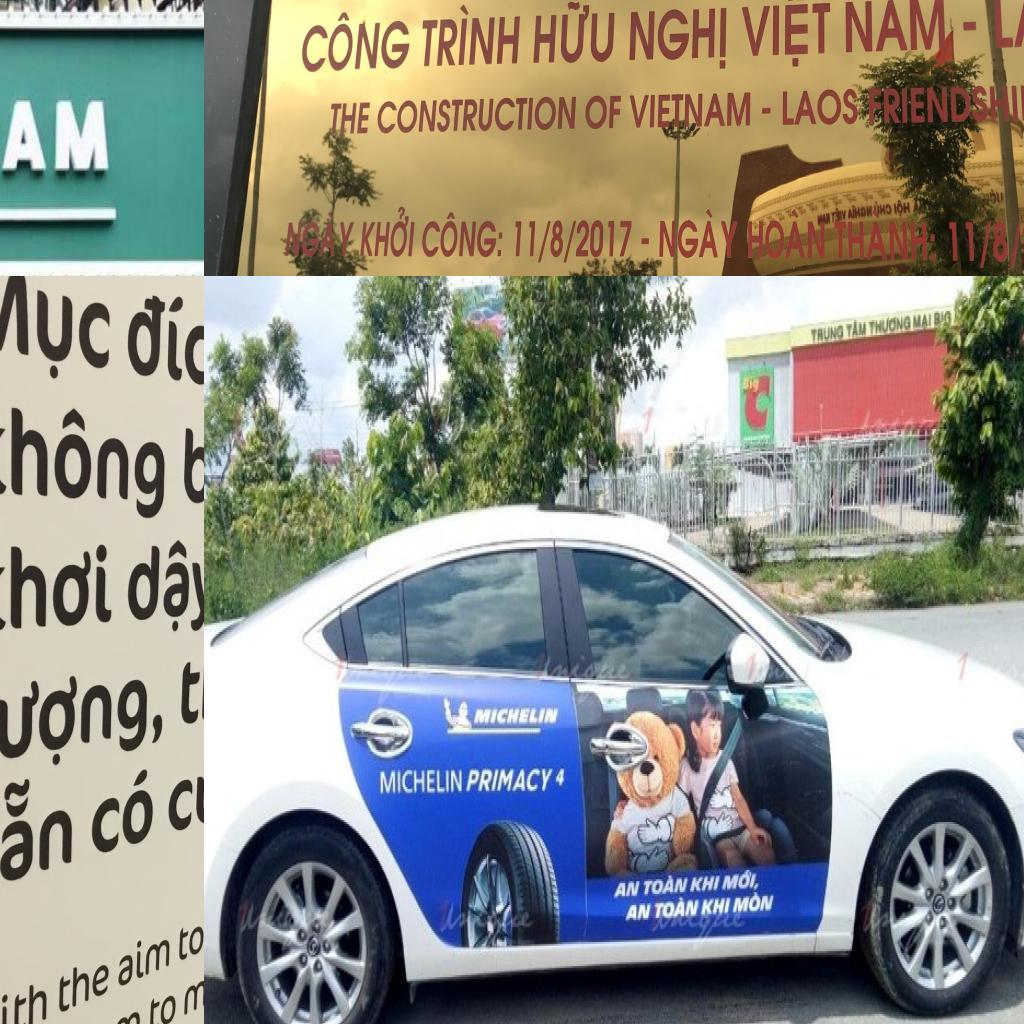text: (0, 390, 167, 524), (0, 662, 165, 785), (0, 276, 113, 389), (0, 537, 114, 636), (0, 90, 112, 177), (0, 769, 73, 900), (376, 92, 578, 138), (121, 283, 204, 394), (862, 76, 1024, 131), (123, 539, 204, 642), (300, 8, 412, 75), (830, 205, 940, 270), (736, 0, 832, 73), (418, 4, 523, 69), (627, 4, 729, 70), (87, 761, 154, 861), (838, 0, 951, 58), (530, 0, 617, 64), (627, 90, 754, 132), (652, 205, 738, 266), (743, 209, 827, 266), (421, 211, 505, 264), (278, 209, 357, 262), (165, 737, 204, 837), (778, 83, 860, 130), (117, 922, 172, 992), (358, 207, 420, 266), (55, 950, 109, 1016), (573, 217, 637, 264), (468, 765, 558, 796), (379, 767, 464, 796), (0, 973, 48, 1024), (58, 995, 142, 1024), (180, 423, 204, 524), (178, 640, 204, 732), (473, 704, 557, 732), (942, 211, 979, 272), (330, 92, 374, 138), (581, 87, 624, 134), (742, 374, 773, 436), (989, 0, 1024, 54), (654, 892, 704, 927), (510, 213, 541, 264), (146, 979, 176, 1024), (176, 915, 204, 963), (722, 866, 770, 894), (642, 872, 690, 899), (532, 215, 555, 268), (867, 311, 911, 337), (546, 217, 568, 268), (991, 217, 1010, 268), (686, 870, 722, 896), (561, 217, 578, 268), (809, 324, 845, 348), (614, 874, 646, 901), (978, 217, 993, 274), (702, 894, 734, 918), (846, 320, 872, 346), (626, 902, 655, 924), (1010, 221, 1022, 272), (912, 311, 935, 337), (554, 763, 568, 793), (744, 375, 763, 396), (934, 309, 943, 333)
